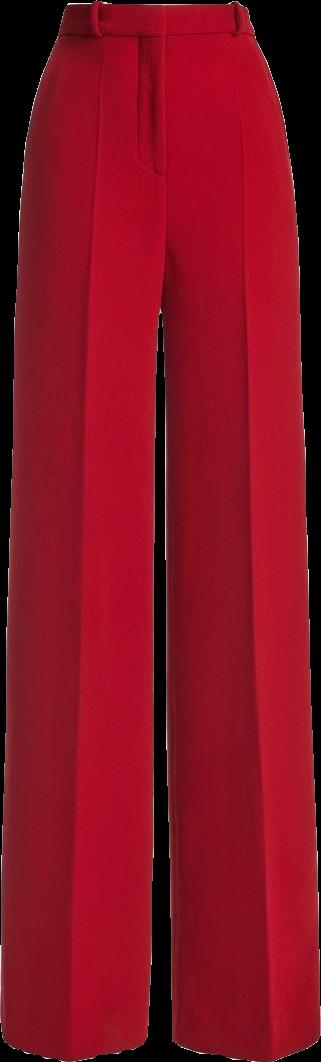Hemline: (0, 1026, 148, 1061), (168, 1030, 320, 1061)
Pantleg: (1, 1, 165, 1060), (162, 3, 320, 1061)
Waistline: (66, 0, 247, 19)
